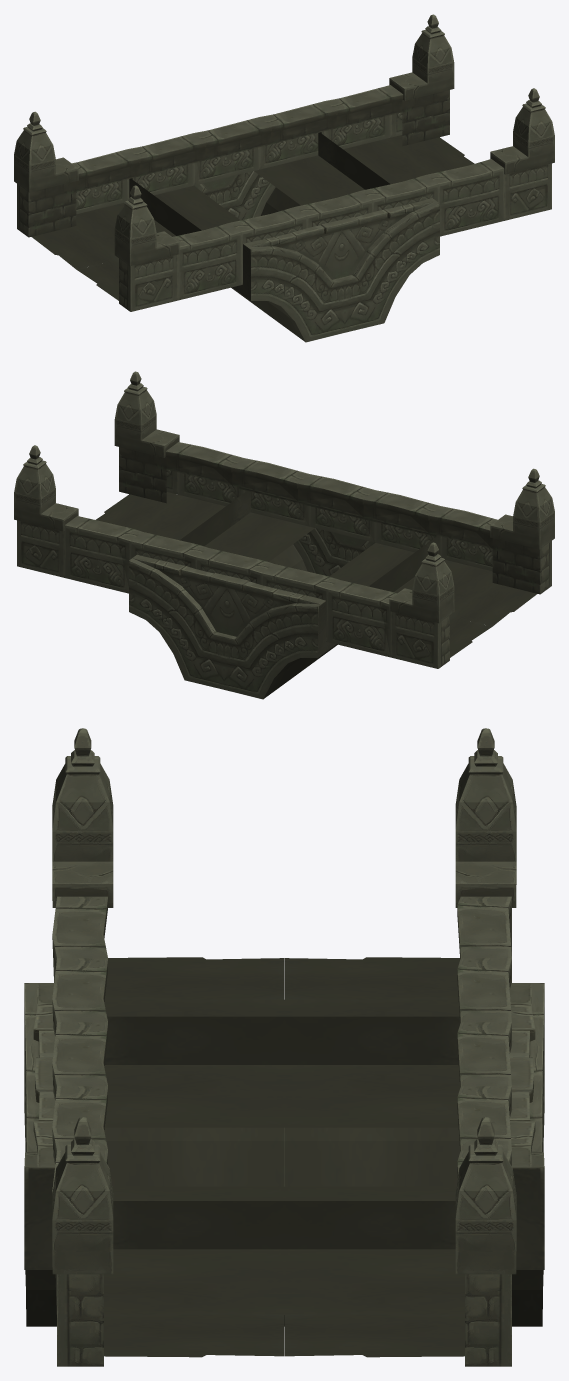
The model's file is Bridge01.fbx.
The picture shows the model from 3 angles, top to bottom: view 1: azimuth 30°, elevation 25°; view 2: azimuth 150°, elevation 25°; view 3: azimuth 270°, elevation 25°; orthographic projection. The views are drawn at different scales.
Visible parts, largest first — view 1: Bridge01; view 2: Bridge01; view 3: Bridge01.
Boxes of the visible parts, <box> form: Bridge01: <box>14,14,554,342</box>; Bridge01: <box>14,371,554,699</box>; Bridge01: <box>24,728,544,1366</box>.
Bounding box in the file's own units: 1294 × 538 × 686.
